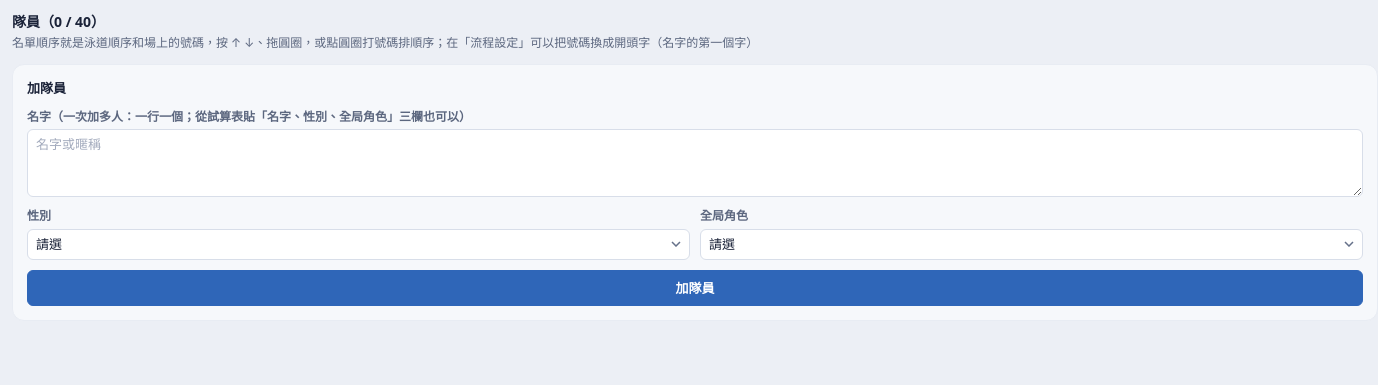
隊員名單 › 加隊員被擋下的原因，改了加隊員的欄位就收掉
Click the button "加隊員".
click(695, 288)  # box [27, 270, 1363, 306]
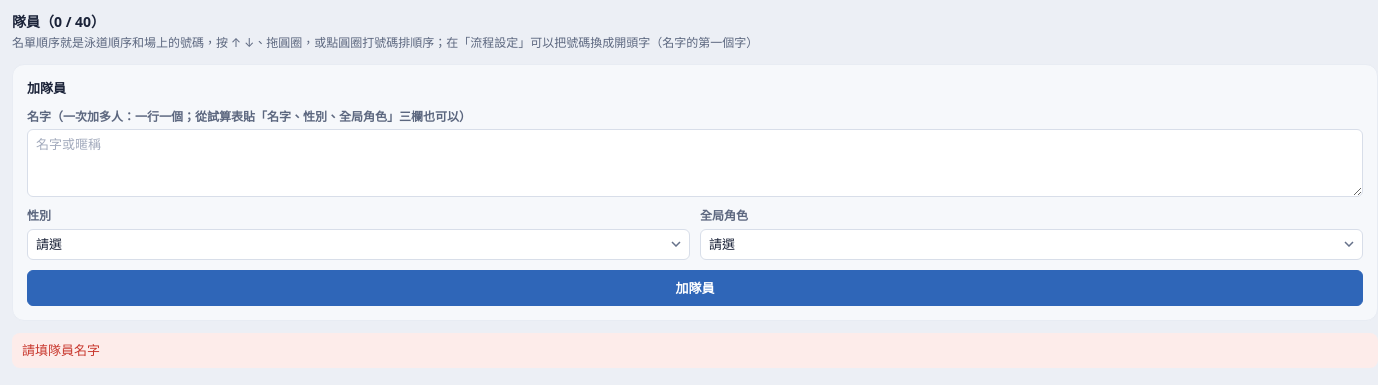
Now the message "請填隊員名字" is shown, box [12, 333, 1377, 368]
Type "小A" into the text box labelled "名字（一次加多人：一行一個；從試算表貼「名字、性別、全局角色」三欄也可以）".
click(695, 163); type("小A")  # box [27, 129, 1363, 197]
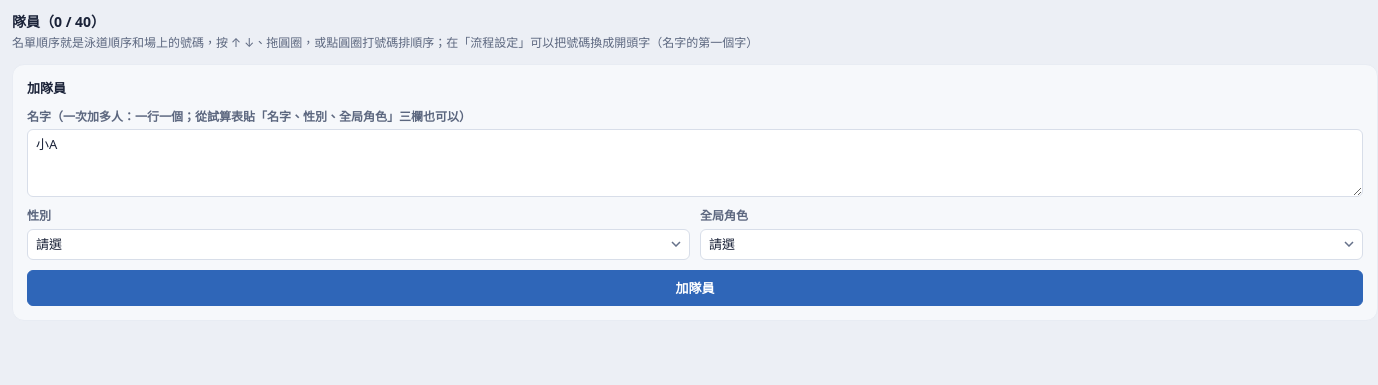
Now the message "請填隊員名字" is gone
